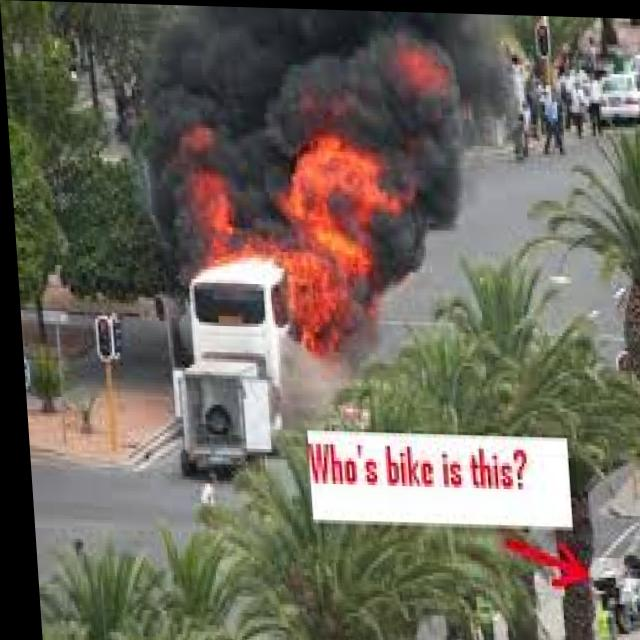fire: (161, 109, 402, 365)
